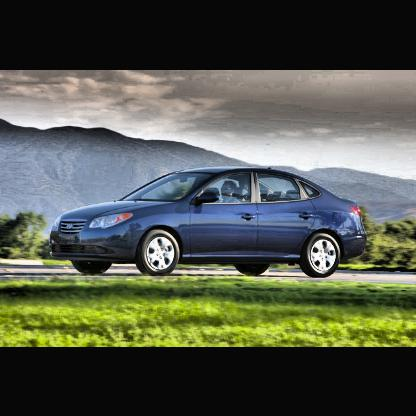Hyundai Elantra Sedan 2007: (49, 168, 367, 278)
